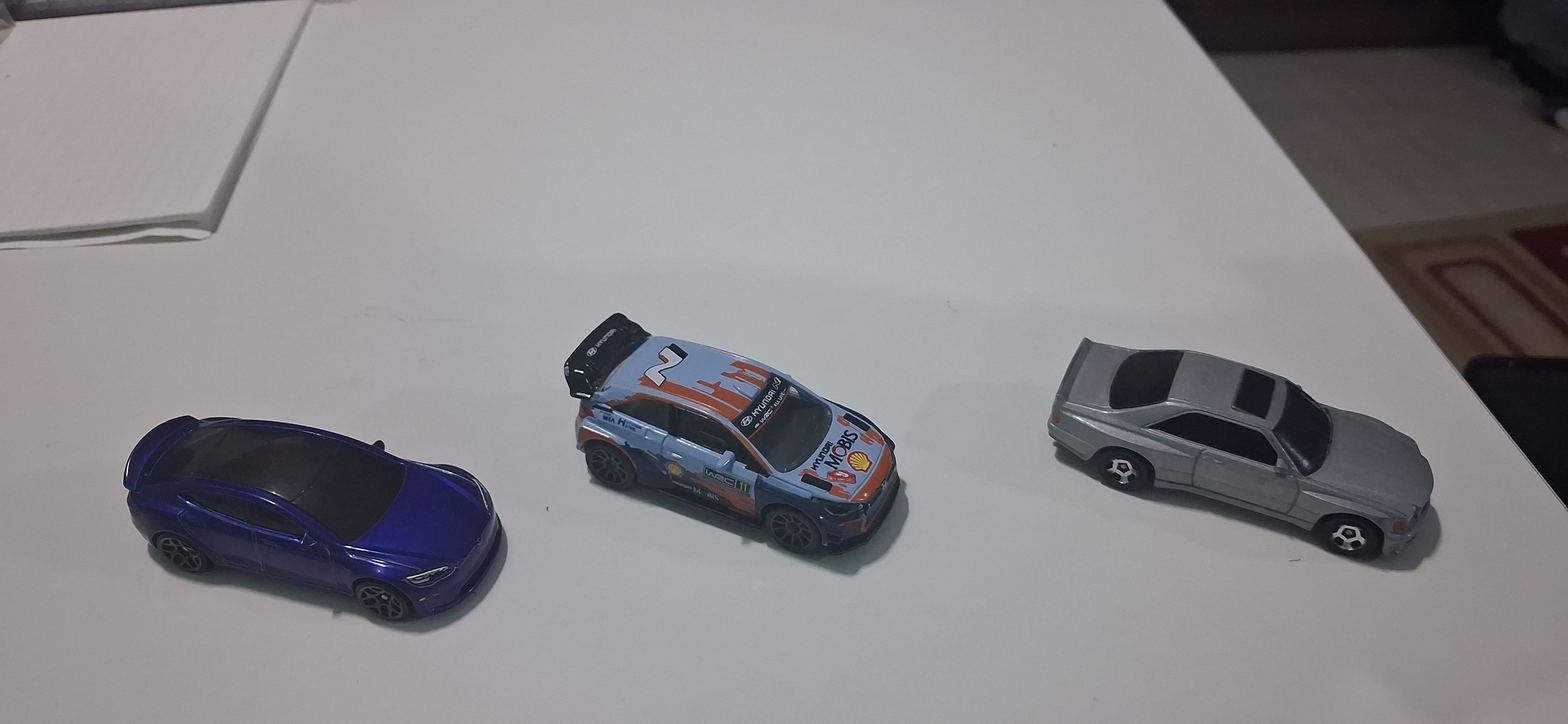Hyundai_I20_WRC: (532, 281, 942, 589)
Mercedes_Benz_560_SEC_AMG: (1014, 287, 1493, 578)
Tesla_Model_S_Plaid: (89, 377, 512, 661)
